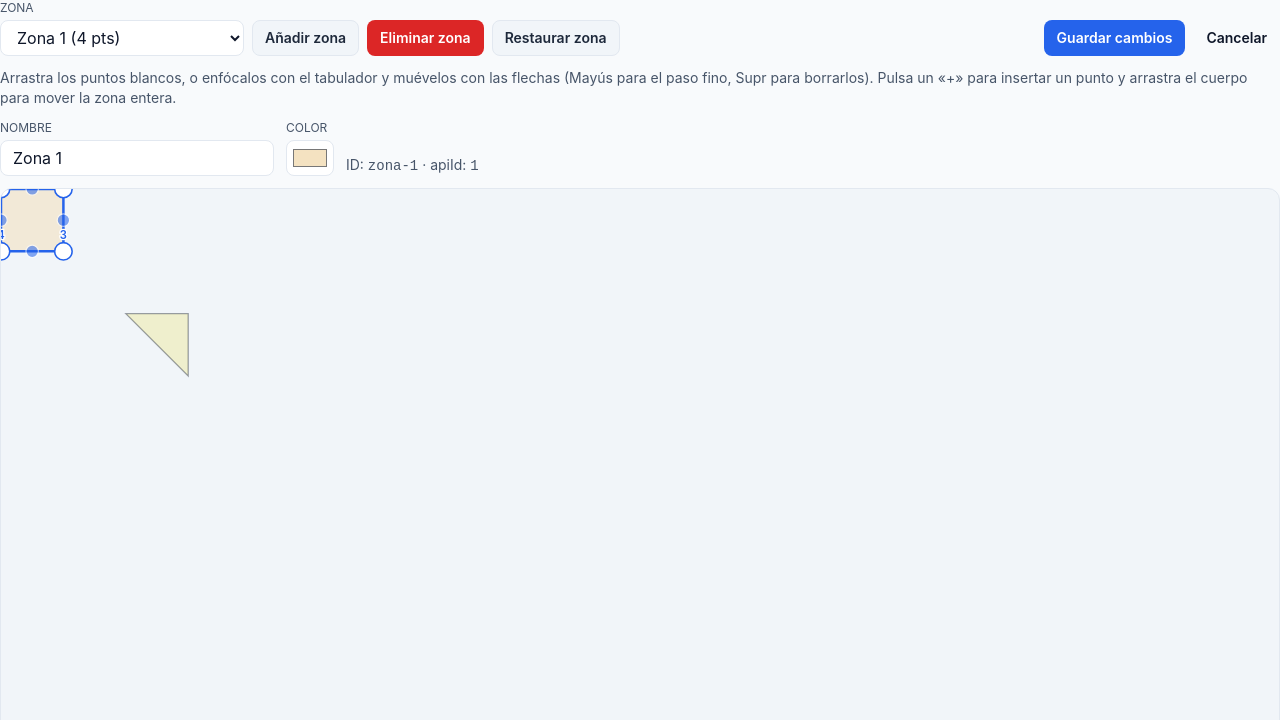
Scenario: contrato · creación de zona › 6 · un identificador válido crea la zona y la selecciona
This screenshot has width=1280, height=720.
Click the button "Añadir zona".
click(306, 38)  # box top-left (252, 20), bottom-right (359, 56)
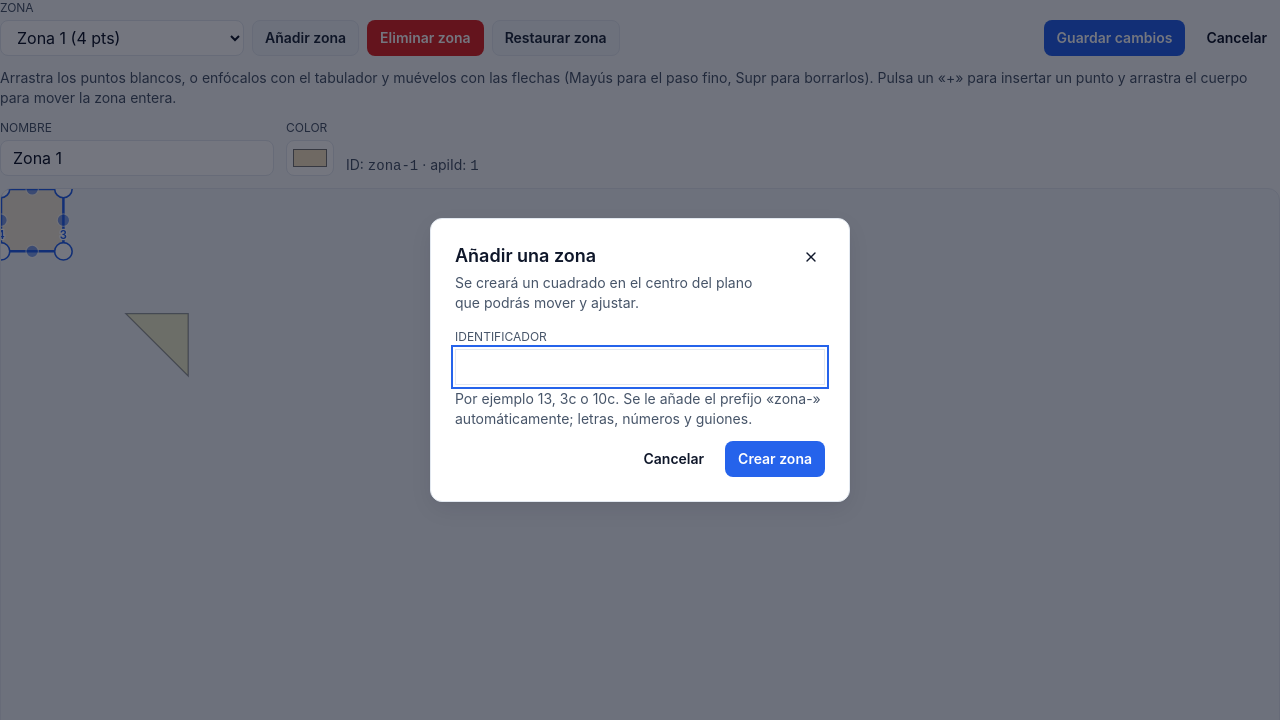
Type "13" into the field.
click(640, 367); type("13")  # box top-left (455, 349), bottom-right (825, 385)
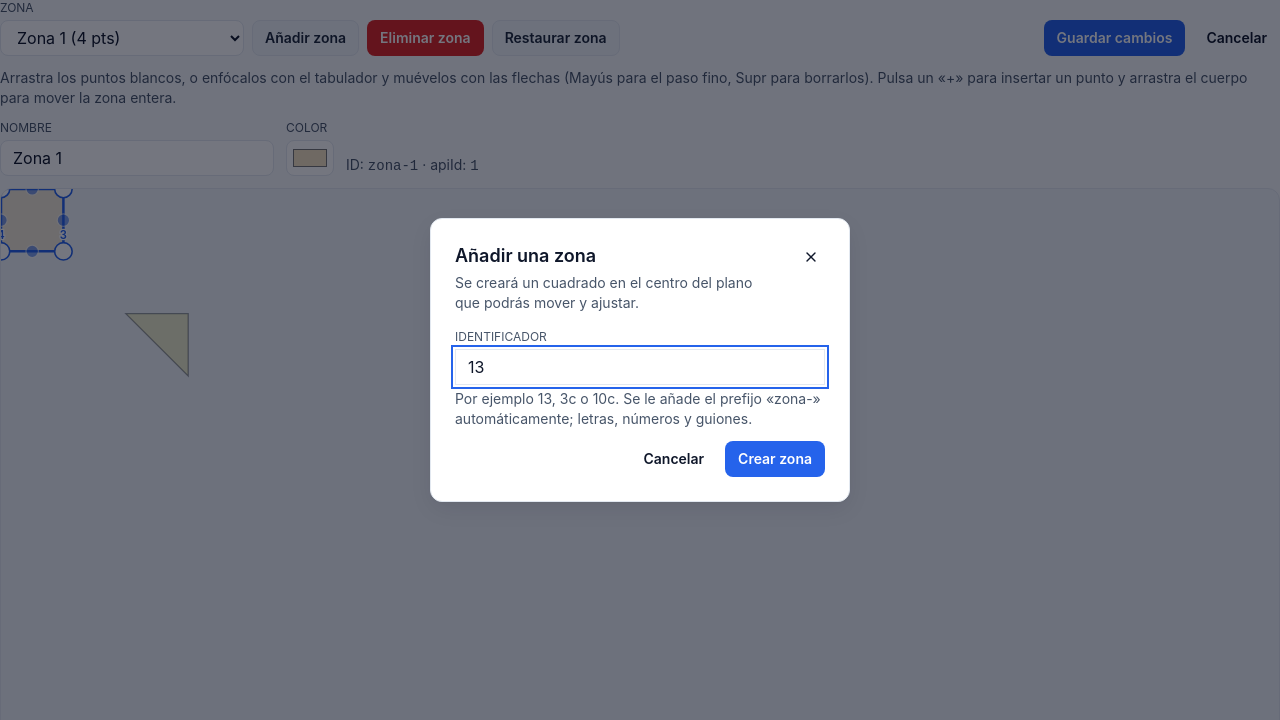
Click the button "Crear zona".
click(775, 459)  # box top-left (725, 441), bottom-right (825, 477)
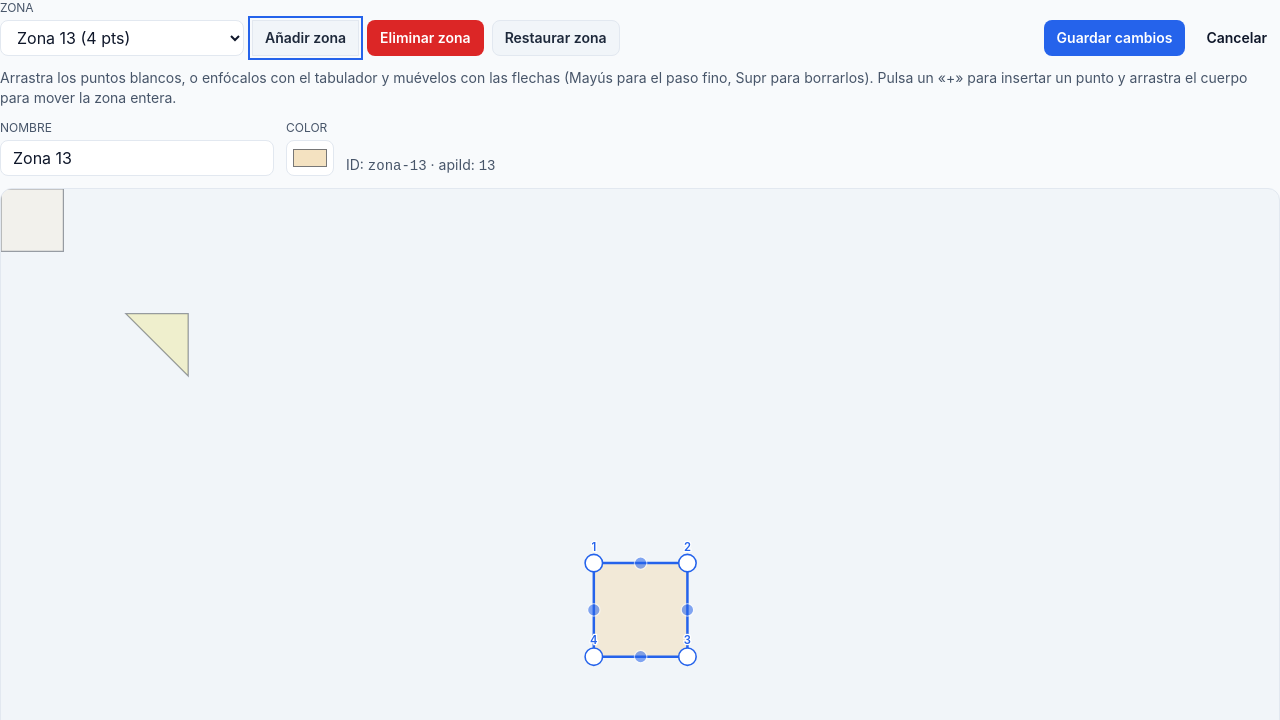
Expected: the dialog is gone
Expected: the dropdown labelled "Zona" shows "Zona 13 (4 pts)", top-left (0, 20), bottom-right (244, 56)
